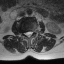CCS_normal: (27, 29, 30, 40)
LFS_normal: (33, 28, 35, 35)
LLS_normal: (30, 29, 33, 37)
RFS_severe_stenosis: (21, 30, 24, 36)
RLS_normal: (24, 29, 27, 39)
